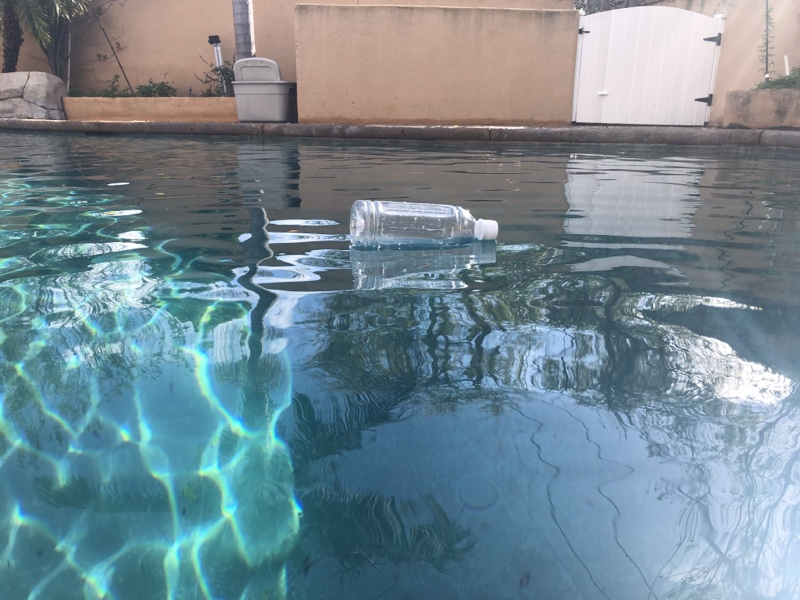Plastic Bottle: (346, 196, 501, 255)
